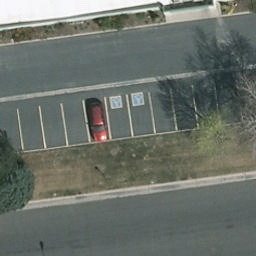car: (87, 97, 112, 141)
